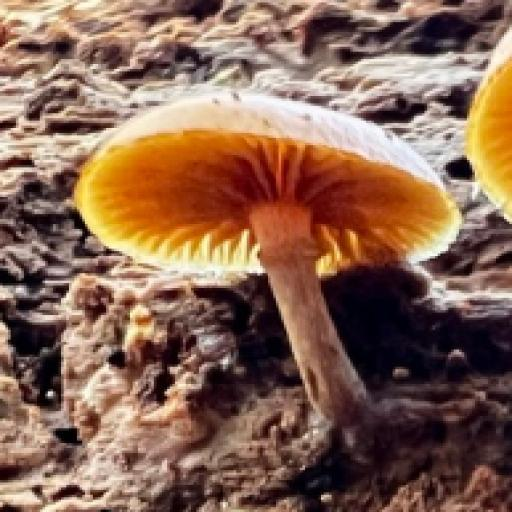mushroom: (57, 77, 467, 388)
